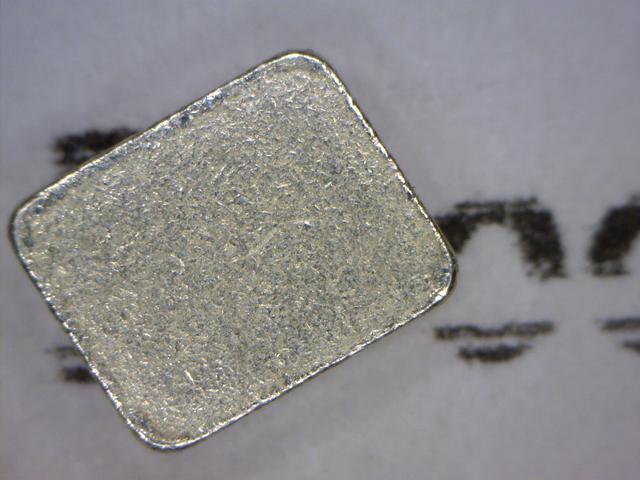ok: (7, 50, 474, 453)
